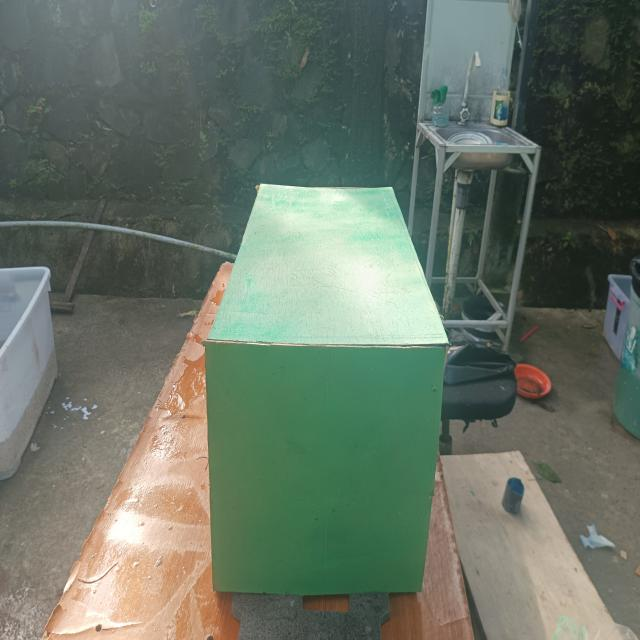green_box: (208, 175, 449, 608)
